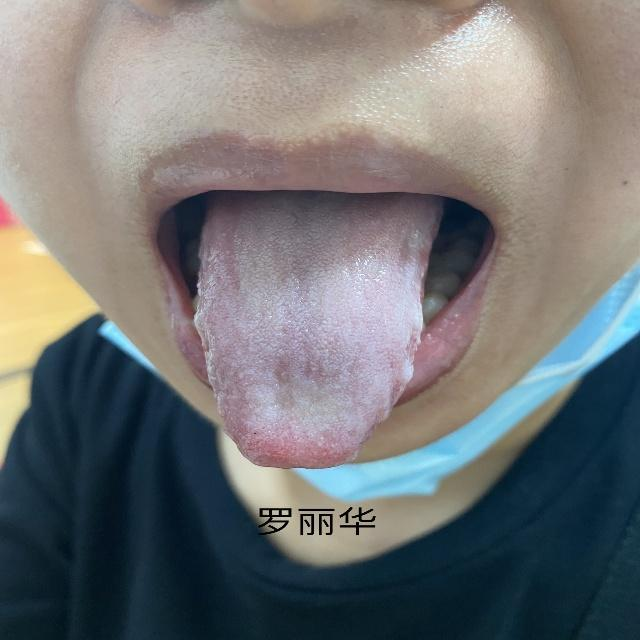baitaishe: (193, 196, 426, 472)
